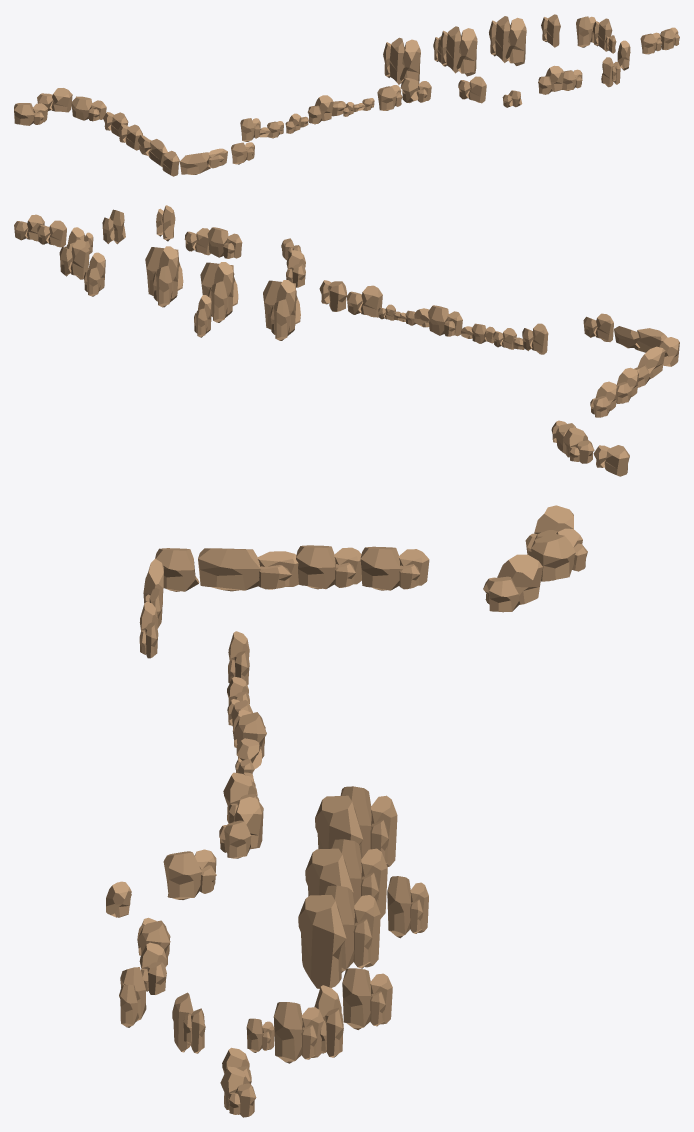
The model's file is rocks_block_3_lvl1.gltf.
The picture shows the model from 3 angles, top to bottom: view 1: azimuth 30°, elevation 25°; view 2: azimuth 150°, elevation 25°; view 3: azimuth 270°, elevation 25°; orthographic projection. The views are drawn at different scales.
Visible parts, largest first — view 1: menhir_mini (×27); view 2: menhir_mini (×22); view 3: menhir_mini (×21).
Part boxes in pixels (x1,y1,x2,y2): menhir_mini (×27): (14, 14, 675, 176); menhir_mini (×22): (48, 220, 679, 476); menhir_mini (×21): (155, 533, 575, 1063).
Bounding box in the file's own units: 29.76 × 2.42 × 10.6.
